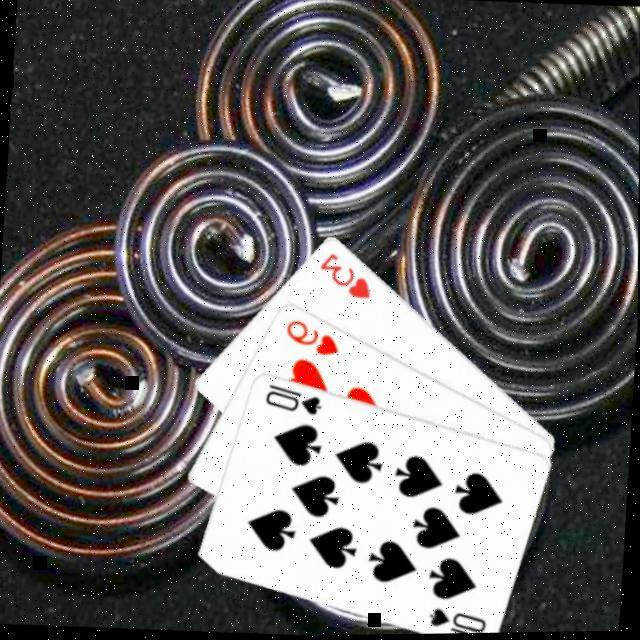10S: (262, 382, 328, 422), (426, 606, 492, 635)
3H: (315, 251, 378, 306)
9H: (282, 318, 344, 362)
